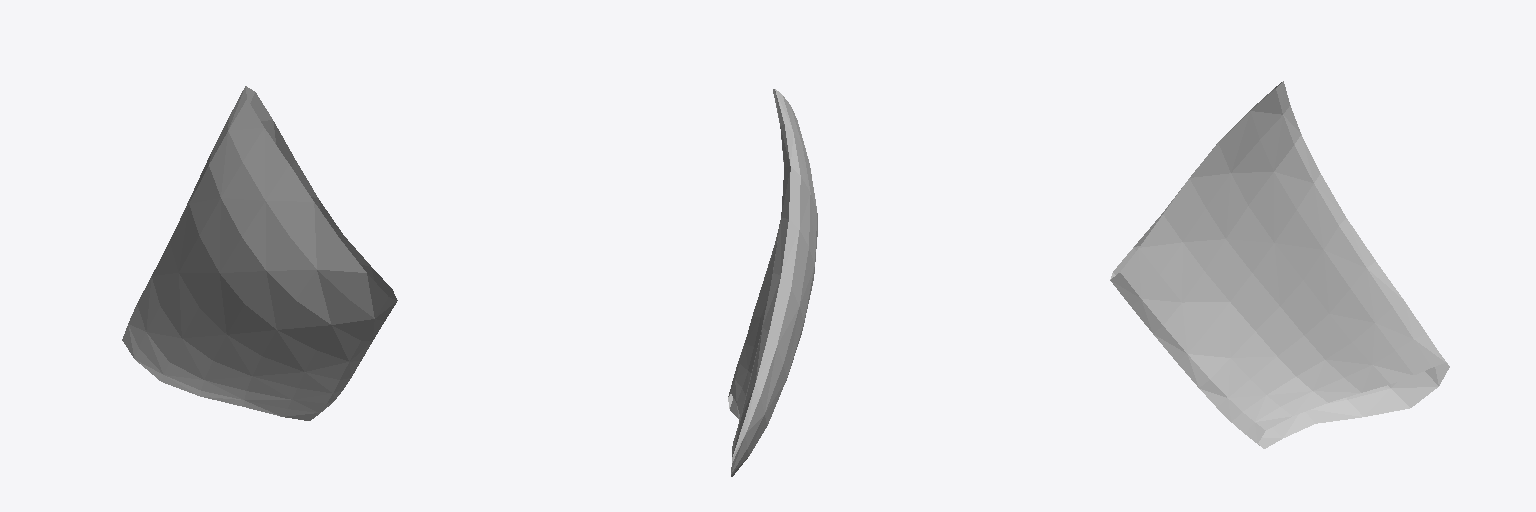
File: thyrohyoid_right.obj
3 views of the same model, side by side, from view 1: azimuth 30°, elevation 25°; view 2: azimuth 150°, elevation 25°; view 3: azimuth 270°, elevation 25° (orthographic).
Visible parts, largest first — view 1: Thyrohyoid_Muscle_Right; view 2: Thyrohyoid_Muscle_Right; view 3: Thyrohyoid_Muscle_Right.
Part boxes in pixels (x1,y1,x2,y2): Thyrohyoid_Muscle_Right: (122,86,397,420); Thyrohyoid_Muscle_Right: (728,89,817,476); Thyrohyoid_Muscle_Right: (1110,81,1449,448).
Size of the model in its own units: 0.1183 by 0.3405 by 0.307.